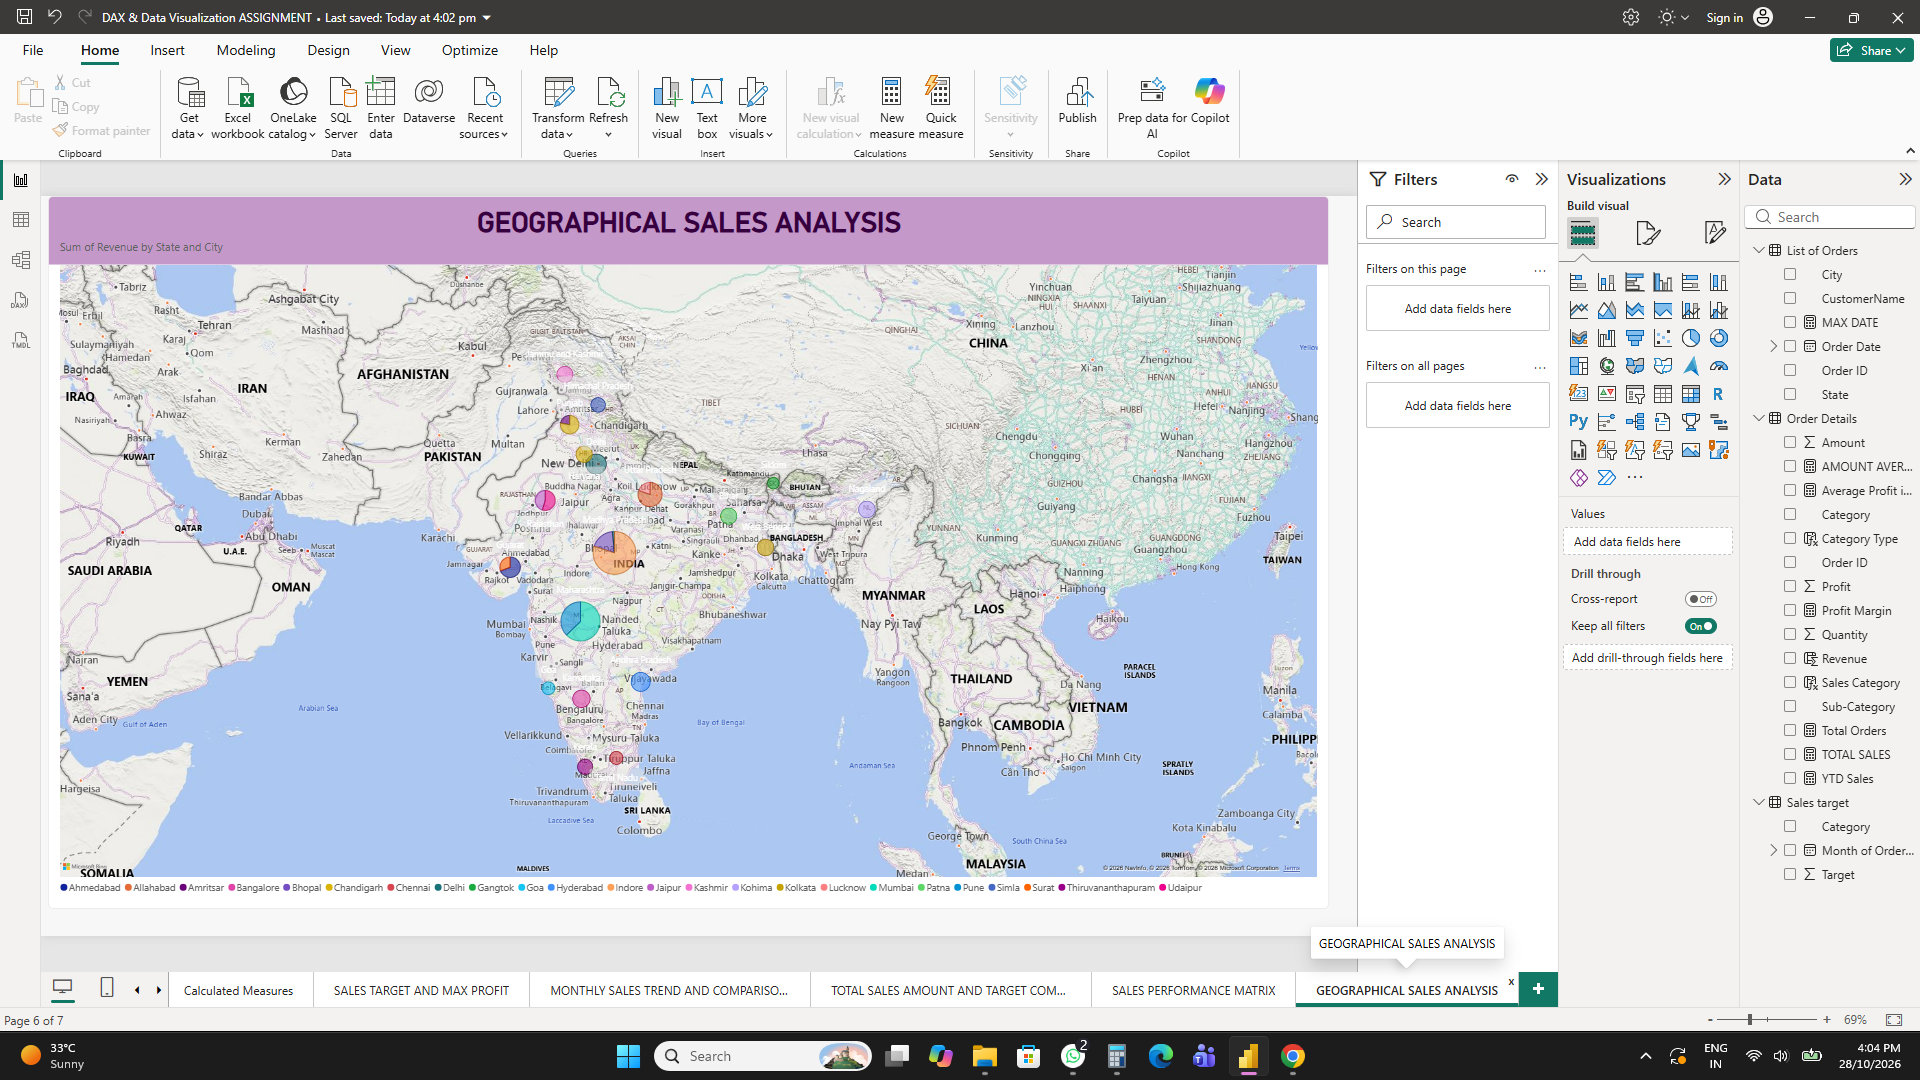

Layout of this report page (visuals, bound fields, positions):
{"tool":"powerbi","page":{"name":"GEOGRAPHICAL SALES ANALYSIS","canvas":[1920,1080],"ordinal":5},"visuals":[{"type":"map","title":"GEOGRAPHICAL SALES ANALYSIS","fields":{"Category":["List of Orders .State"],"Series":["List of Orders .City"],"Size":["Sum(Order Details .Revenue)"]},"box":[10.2,0,1868.9,1040.2],"z":0}]}

Visuals, with their boxes on the page's 1920x1080 design canvas (x1, y1, x2, y2). These are canvas units, not pixel positions in the 1920x1080 screenshot, which may show the page scaled, cropped or inside an application window:
"GEOGRAPHICAL SALES ANALYSIS" map: crop(10, 0, 1879, 1040)
